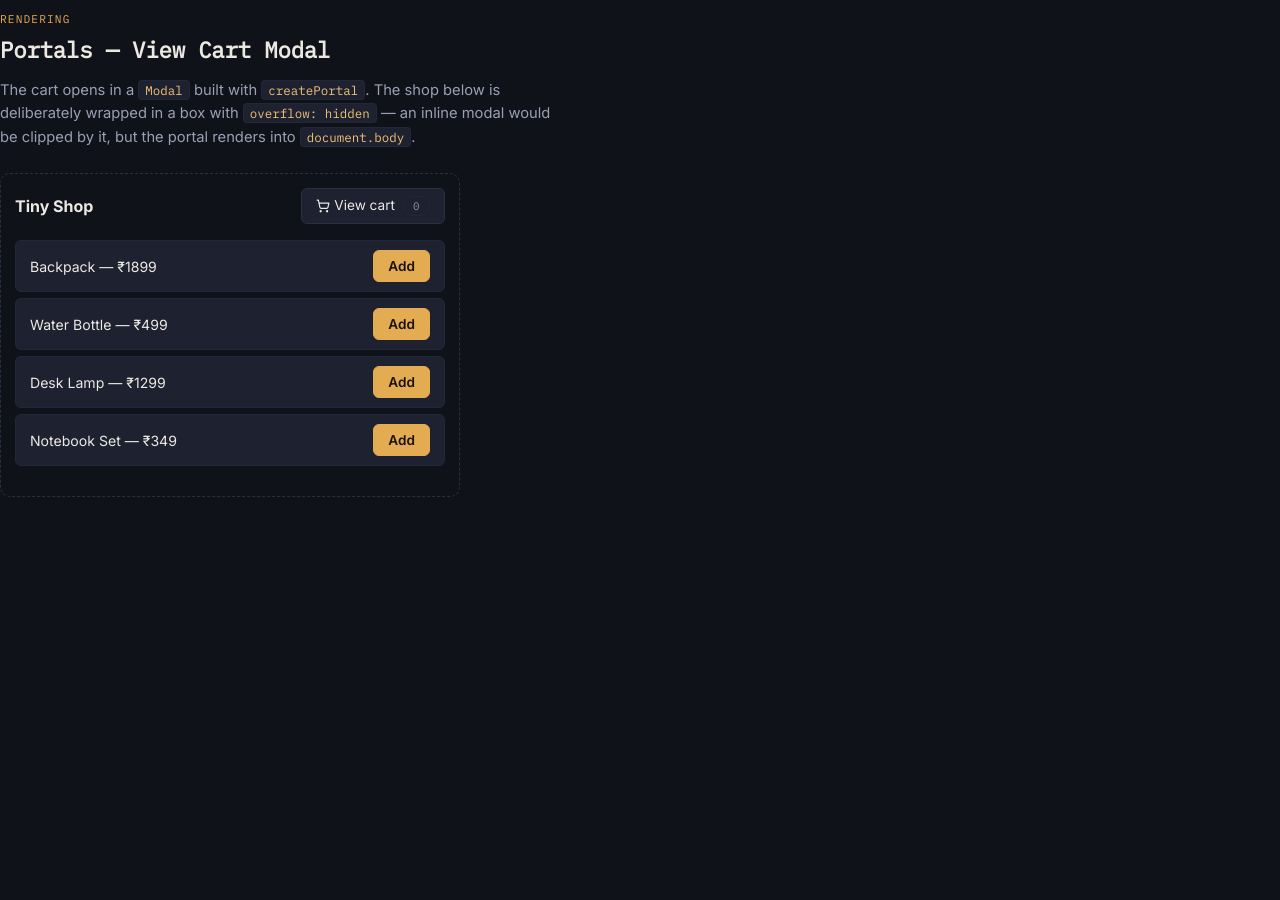
Test: Task 32 – view cart modal › adds items, adjusts quantity in the portal, and checks out
What coordinates should you click on to do the following:
click the button named "Add Backpack to cart"
I would click on:
 (402, 266)
Its box is [373,250,430,282].
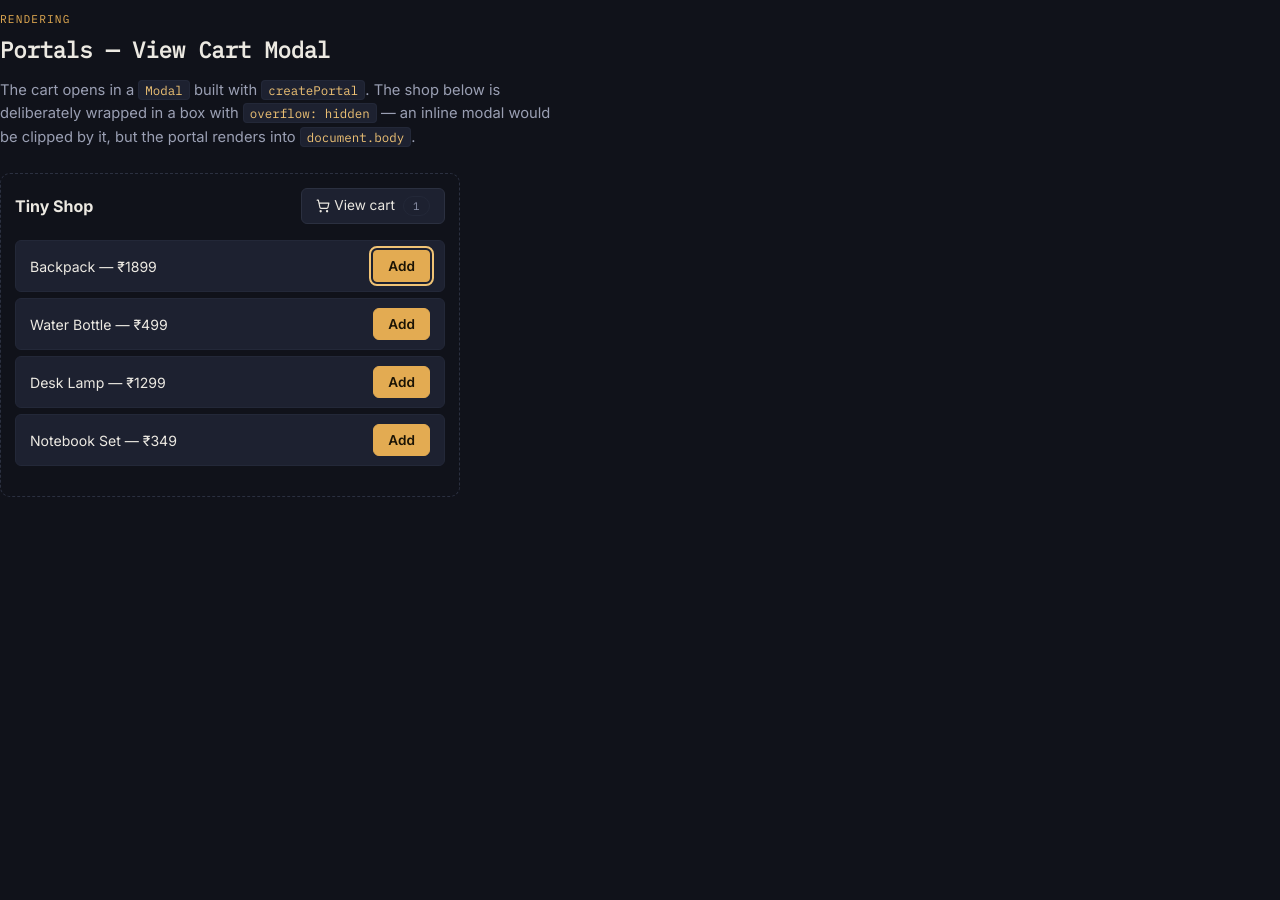
expect the button named "view cart, 1 items" is shown: met
What coordinates should you click on to do the following:
click the button "View cart 1"
I would click on:
 (373, 206)
Its box is [301,188,445,224].
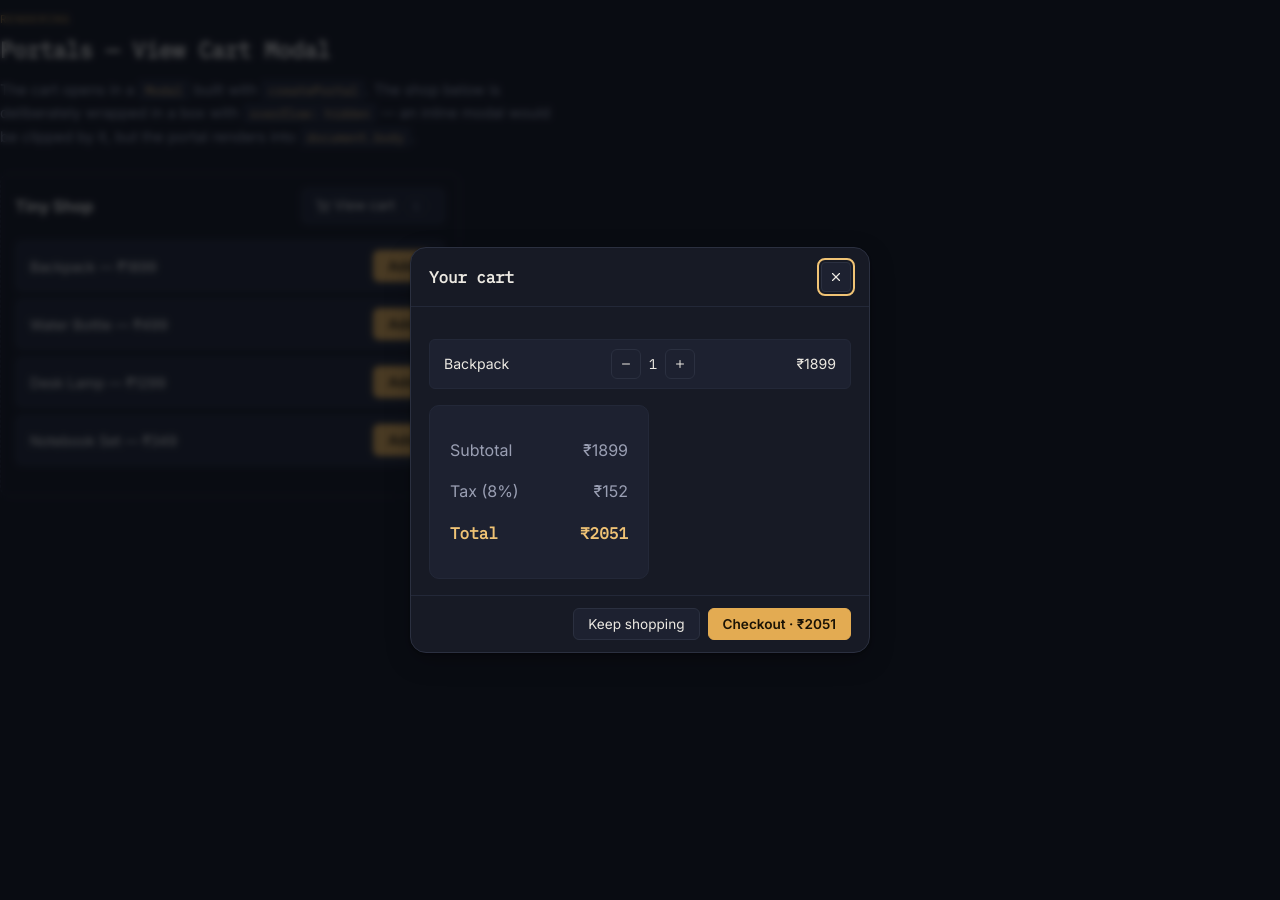
What coordinates should you click on to do the following:
click the button named "Increase Backpack"
I would click on:
 (680, 364)
Its box is [665,349,695,379].
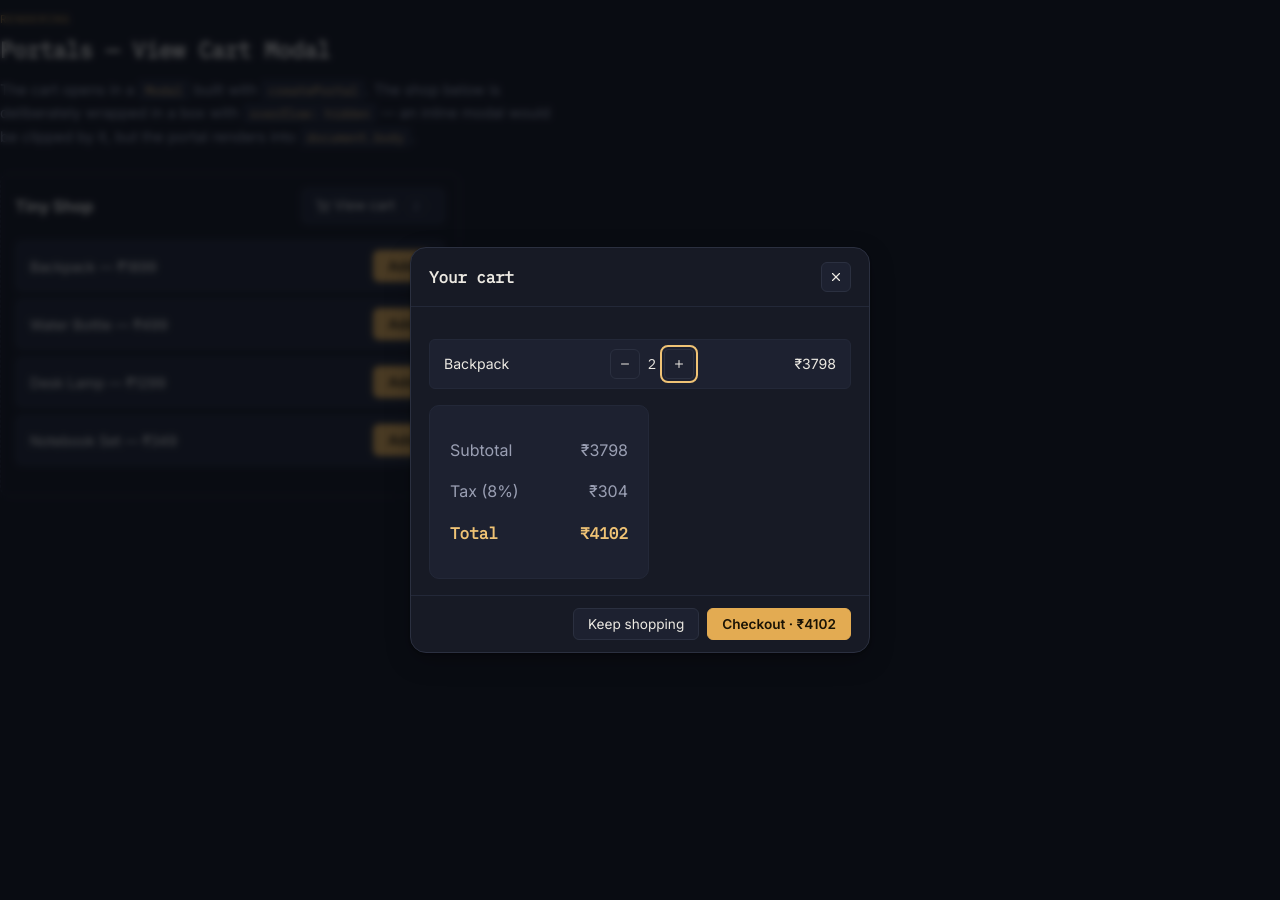
expect the button "Checkout · ₹4102" is shown: met
What coordinates should you click on to do the following:
click the button "Checkout · ₹4102"
I would click on:
 (779, 624)
Its box is [707,608,851,640].
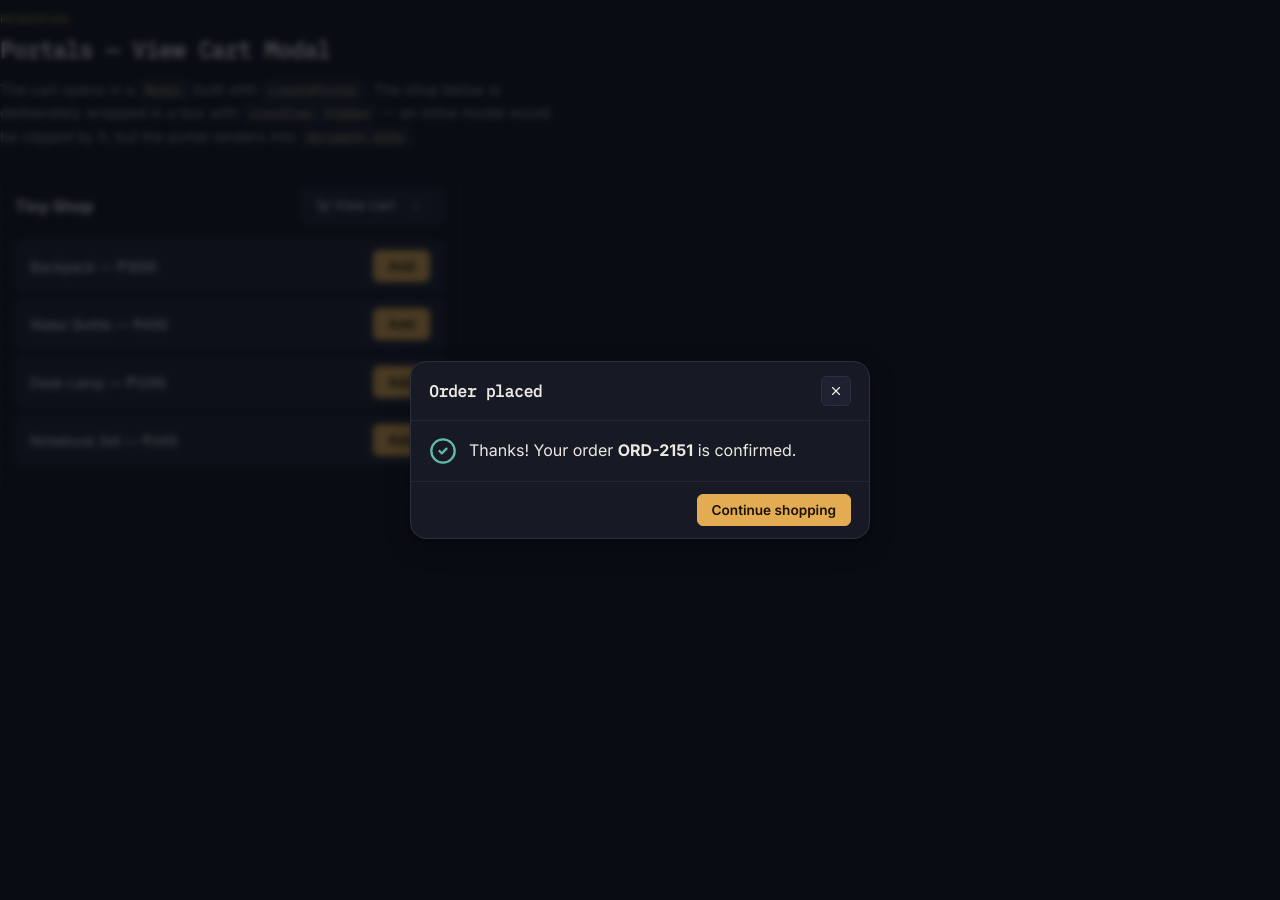
expect the dialog "Order placed" is shown: met, box [410,361,870,539]
expect the message reads "Thanks! Your order ORD-2151 is confirmed.": met, box [618,440,693,460]
What coordinates should you click on to do the following:
click the button "Continue shopping"
I would click on:
 (774, 510)
Its box is [696,494,851,526].
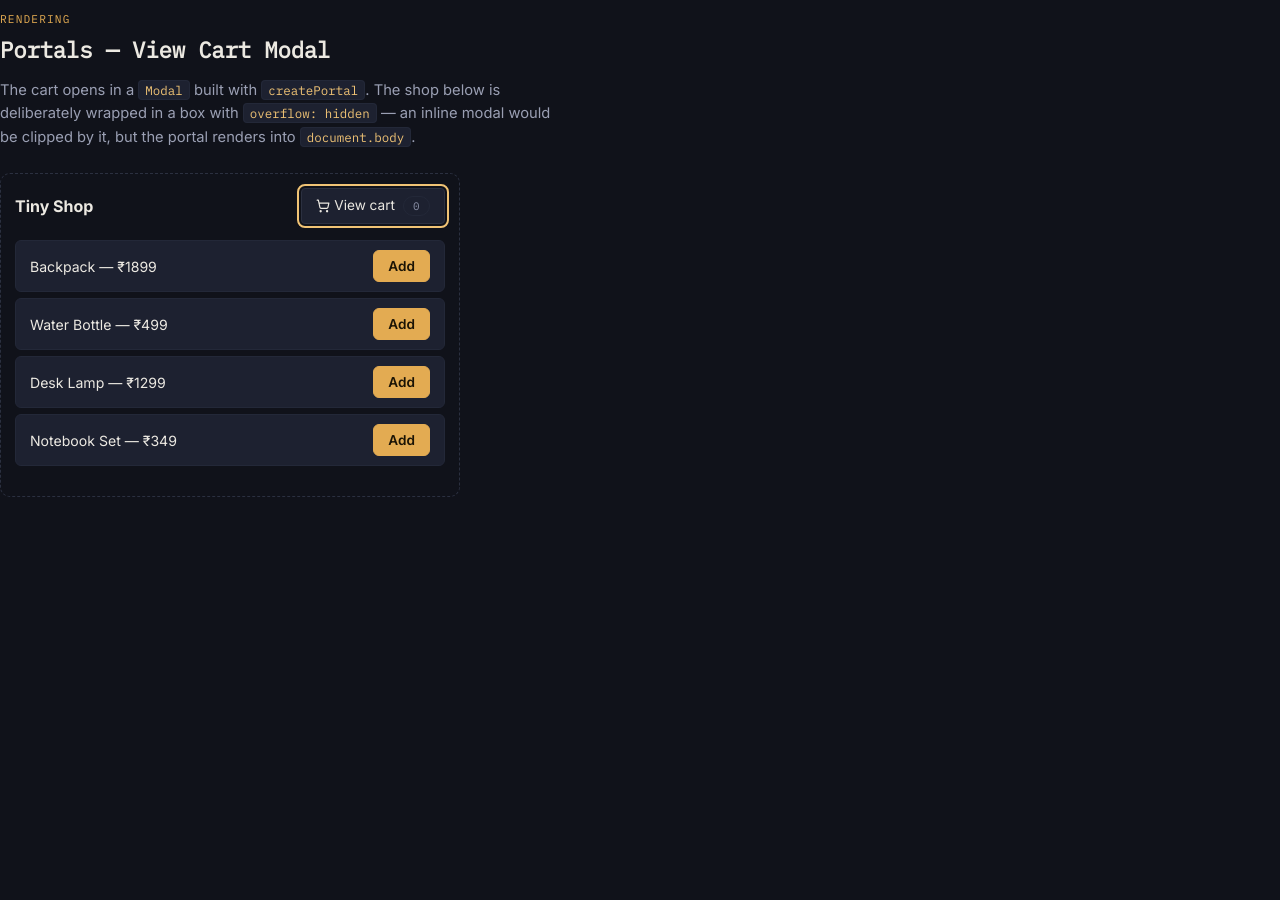
expect the button named "view cart, 0 items" is shown: met, box [301,188,445,224]
expect the dialog is gone: met
